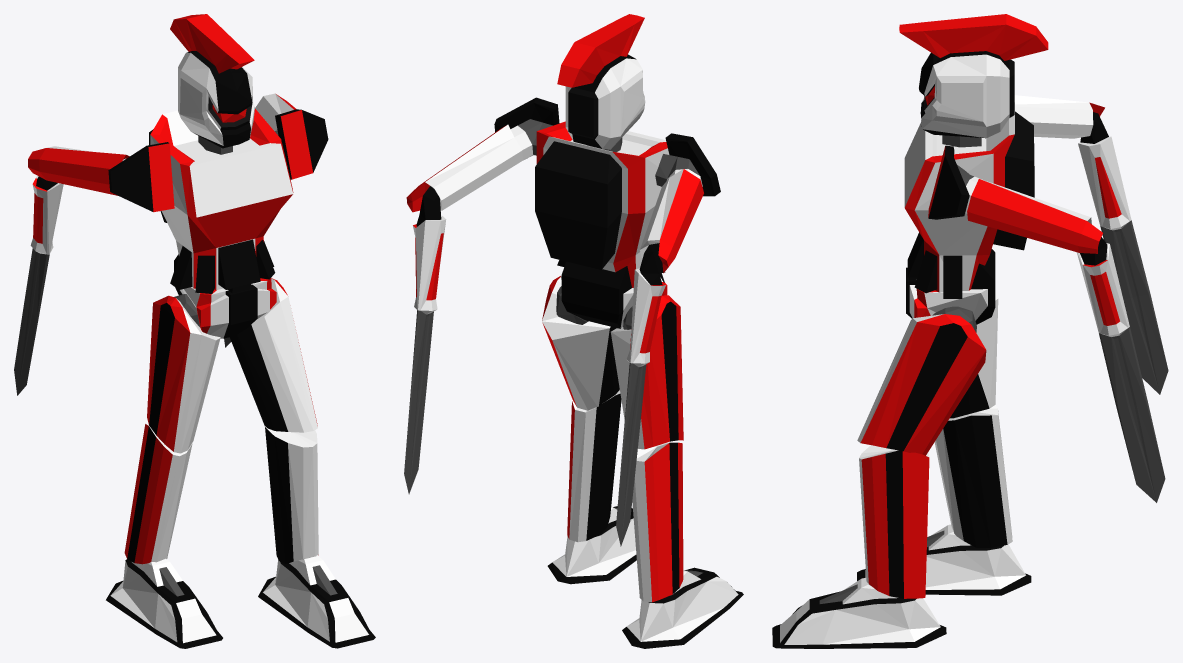
File: robots_000009.obj
3 renders of one model, left to right at view 1: azimuth 30°, elevation 25°; view 2: azimuth 150°, elevation 25°; view 3: azimuth 270°, elevation 25°, orthographic. The views are drawn at different scales.
Parts seen in each view (by area): view 1: Chest_plate_Cube.004, Head_gladiator_Cube.024, R_Thigh_Cube.005, R_Thigh.002_Cube.027, R_Forearm.001_Cube.028, R_Shin.002_Cube.029, R_Foot.002_Cube.035, R_Foot_Cube, R_Shin_Cube.007, Pelvis_Cube.006, R_Arm.002_Cube.032, R_Arm.003_Cube.034 (+1 smaller); view 2: Chest_plate_Cube.004, R_Forearm.002_Cube.033, R_Forearm.001_Cube.028, Head_gladiator_Cube.024, R_Shin_Cube.007, R_Shin.002_Cube.029, R_Thigh_Cube.005, R_Thigh.002_Cube.027, R_Foot_Cube, Pelvis_Cube.006, R_Foot.002_Cube.035, R_Arm.002_Cube.032 (+1 smaller); view 3: R_Forearm.002_Cube.033, Chest_plate_Cube.004, Head_gladiator_Cube.024, R_Thigh.002_Cube.027, R_Forearm.001_Cube.028, R_Shin.002_Cube.029, R_Foot.002_Cube.035, R_Shin_Cube.007, R_Foot_Cube, Pelvis_Cube.006, R_Arm.003_Cube.034, R_Thigh_Cube.005.
Boxes of the visible parts, <box> form: Chest_plate_Cube.004: <box>149,109,293,293</box>; Head_gladiator_Cube.024: <box>170,14,254,148</box>; R_Thigh_Cube.005: <box>147,295,220,453</box>; R_Thigh.002_Cube.027: <box>230,278,317,432</box>; R_Forearm.001_Cube.028: <box>14,146,129,395</box>; R_Shin.002_Cube.029: <box>265,426,318,564</box>; R_Foot.002_Cube.035: <box>258,556,375,648</box>; R_Foot_Cube: <box>106,558,222,648</box>; R_Shin_Cube.007: <box>124,424,192,564</box>; Pelvis_Cube.006: <box>174,254,276,338</box>; R_Arm.002_Cube.032: <box>108,142,174,212</box>; R_Arm.003_Cube.034: <box>274,109,328,179</box>; Chest_plate_Cube.004: <box>535,121,669,287</box>; R_Forearm.002_Cube.033: <box>404,124,523,494</box>; R_Forearm.001_Cube.028: <box>616,169,703,546</box>; Head_gladiator_Cube.024: <box>557,14,645,149</box>; R_Shin_Cube.007: <box>632,442,683,602</box>; R_Shin.002_Cube.029: <box>567,390,621,542</box>; R_Thigh_Cube.005: <box>610,295,683,449</box>; R_Thigh.002_Cube.027: <box>542,276,619,410</box>; R_Foot_Cube: <box>622,567,743,648</box>; Pelvis_Cube.006: <box>560,261,667,328</box>; R_Foot.002_Cube.035: <box>547,506,636,584</box>; R_Arm.002_Cube.032: <box>655,133,720,196</box>; R_Forearm.002_Cube.033: <box>967,179,1165,502</box>; Chest_plate_Cube.004: <box>904,102,1034,298</box>; Head_gladiator_Cube.024: <box>899,14,1048,138</box>; R_Thigh.002_Cube.027: <box>857,314,986,455</box>; R_Forearm.001_Cube.028: <box>1014,95,1168,394</box>; R_Shin.002_Cube.029: <box>859,445,929,598</box>; R_Foot.002_Cube.035: <box>772,577,946,648</box>; R_Shin_Cube.007: <box>934,405,1012,547</box>; R_Foot_Cube: <box>857,524,1031,595</box>; Pelvis_Cube.006: <box>906,249,995,324</box>; R_Arm.003_Cube.034: <box>928,145,982,219</box>; R_Thigh_Cube.005: <box>950,290,998,418</box>.
Bounding box in the file's own units: 1.51 × 3.19 × 1.92.
